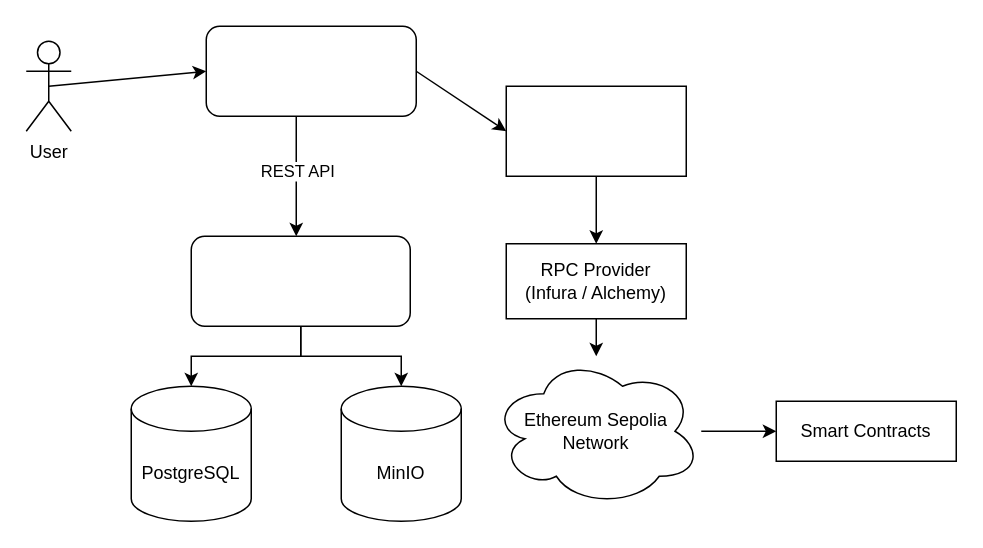
This 983x548 diagram has some shape labels left out. Here are the shapes that lost their labels. From the top down, the centre of each, then its label:
At (310,70): "Frontend (Web App)".
At (595,130): "Web3 (MetaMask)".
At (300,280): "Backend (ASP.NET Core)".
